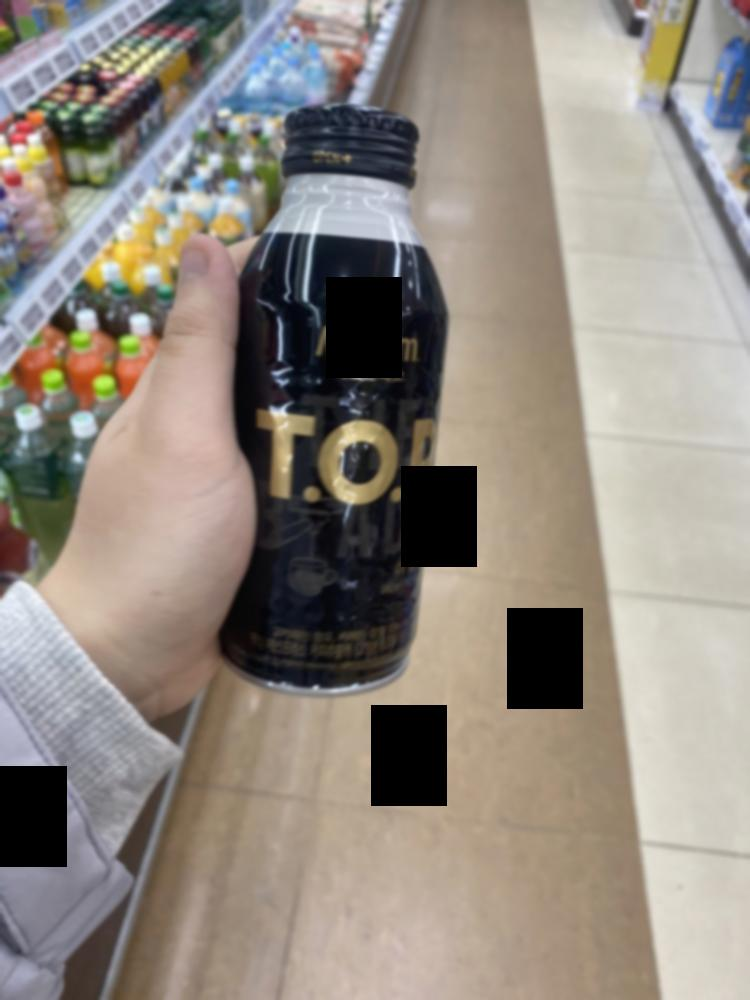TOP_black: (233, 106, 450, 690)
